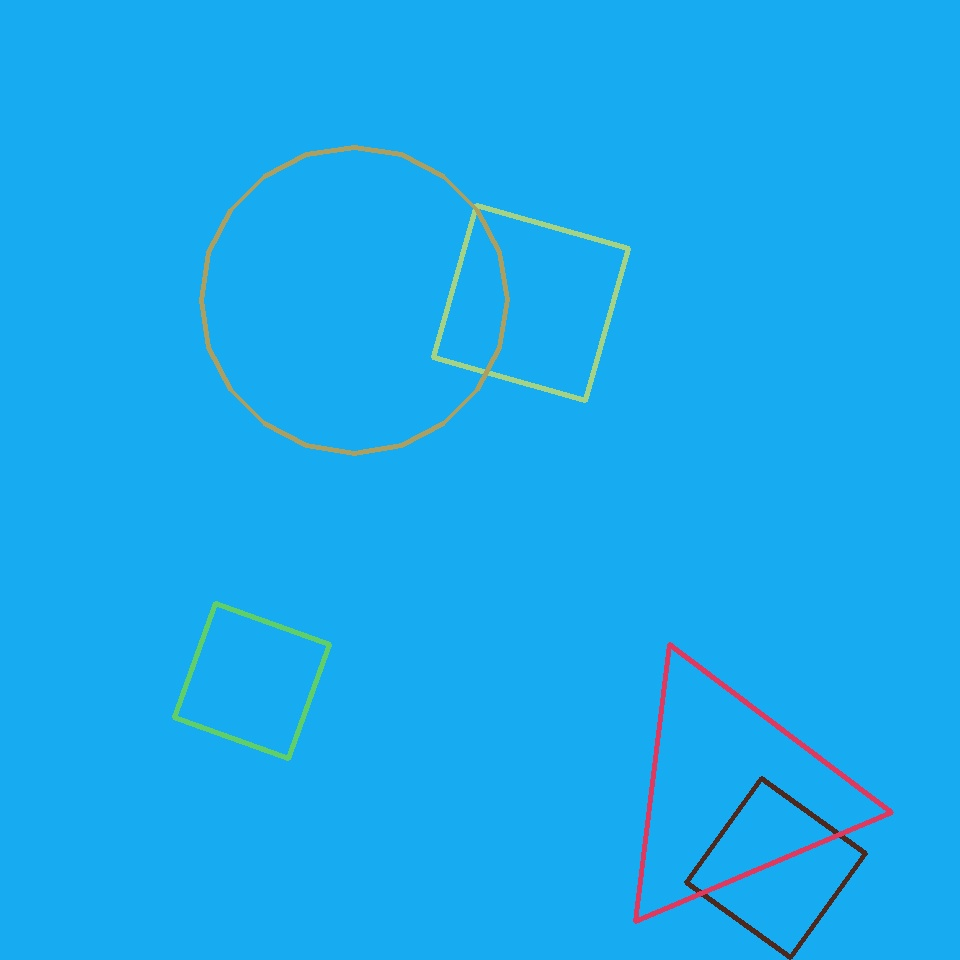circle: (604, 654, 860, 932)
square: (434, 206, 628, 400), (686, 778, 866, 958), (174, 604, 330, 758)
triangle: (201, 147, 507, 453)
